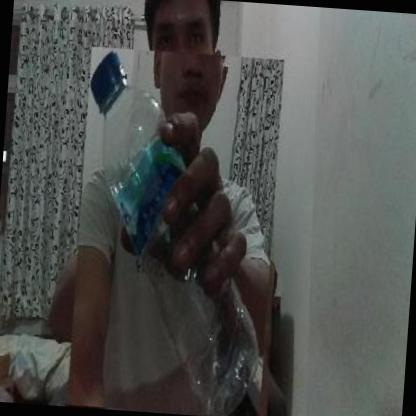plastic_bottles: (90, 49, 264, 416)
